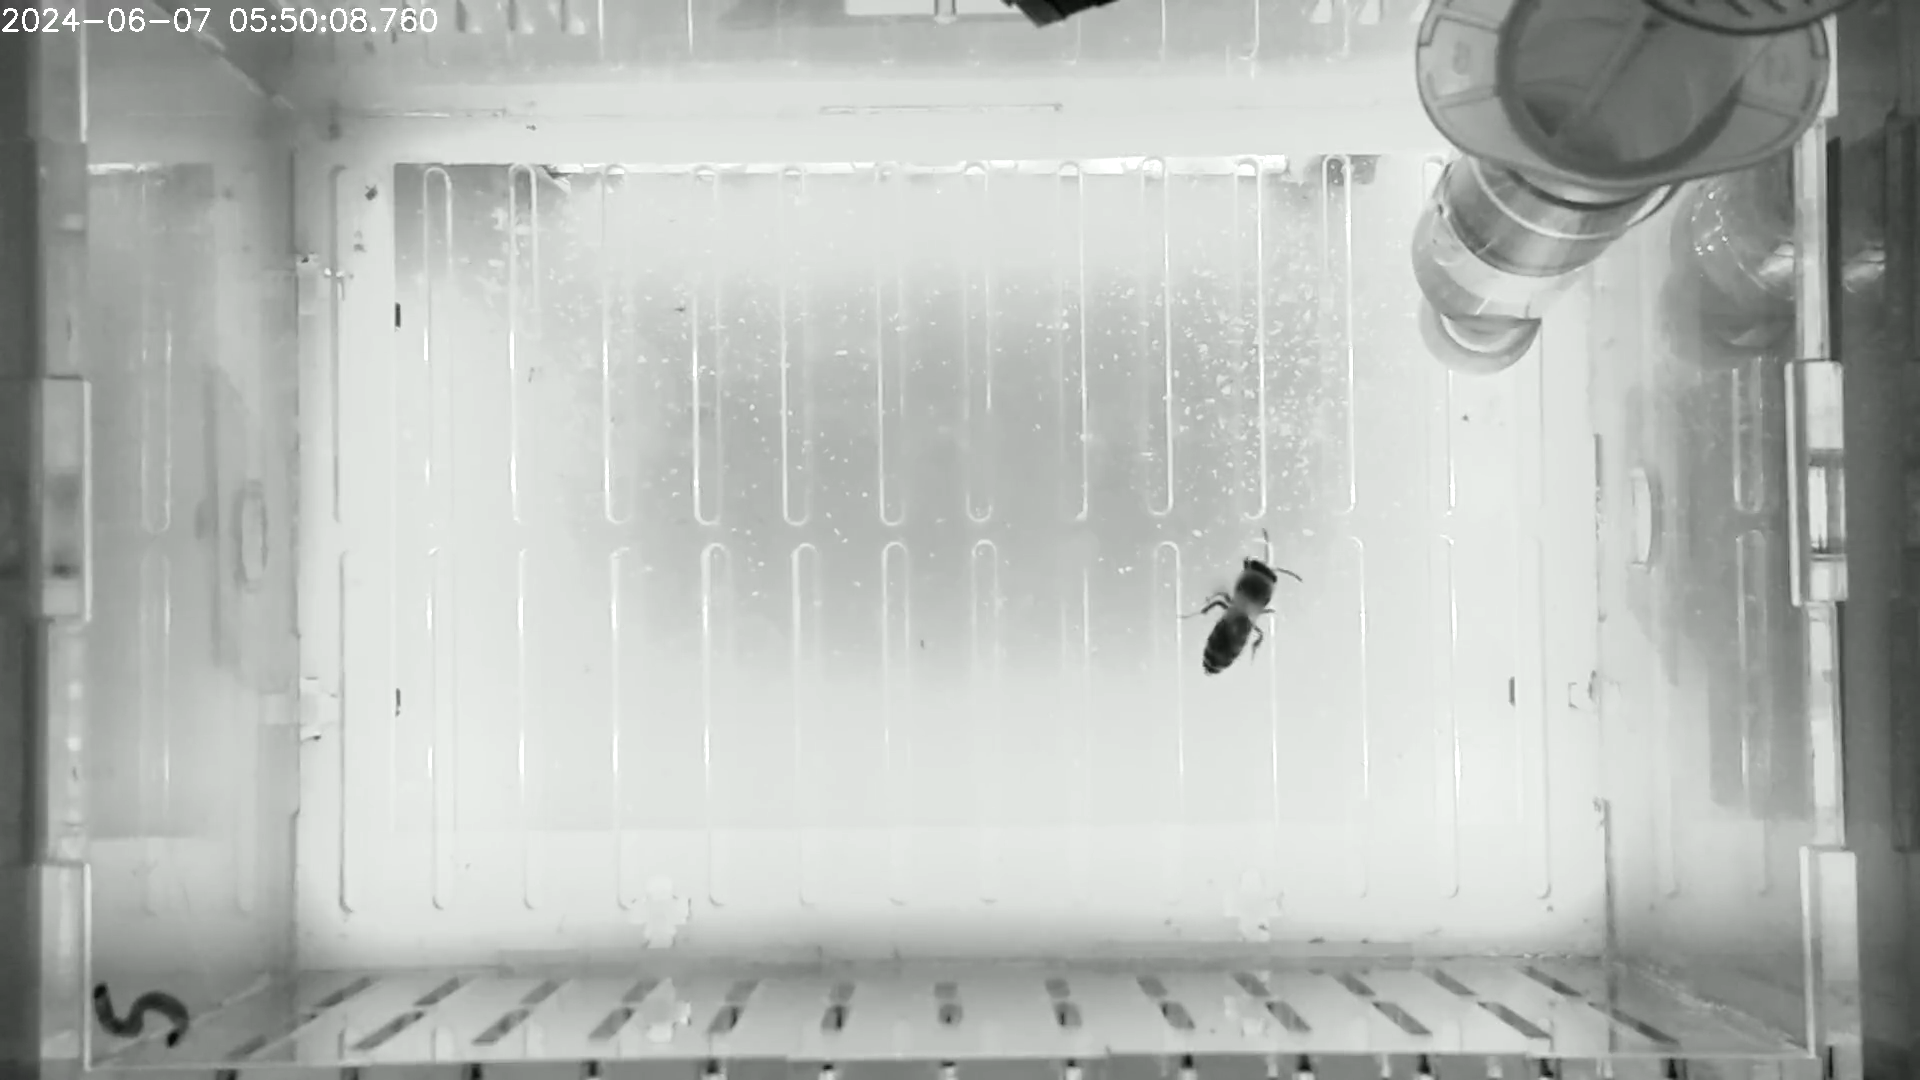bee: (1178, 520, 1308, 687)
feeder: (1407, 136, 1655, 342)
